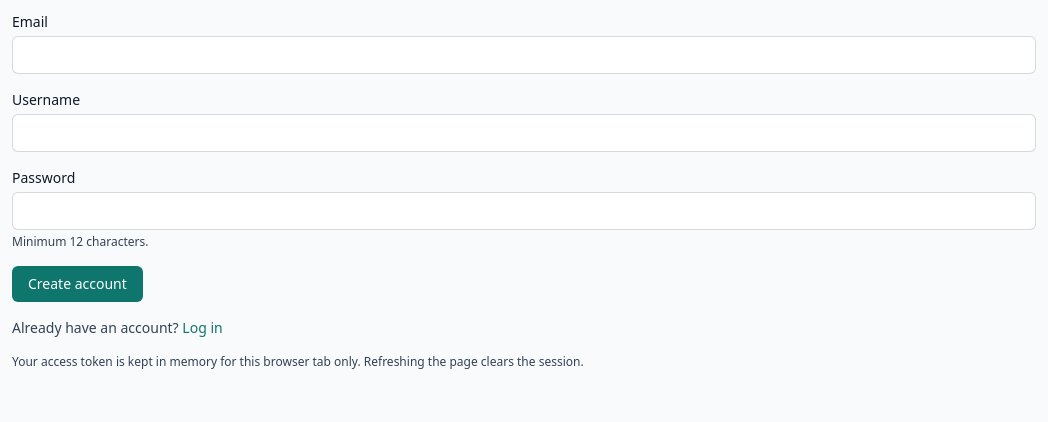
Test case: RegisterForm › shows API error message
The width and height of the screenshot is (1048, 422).
Type "test@example.com" into the field labelled "Email" at (524, 55), box [12,36,1036,74]
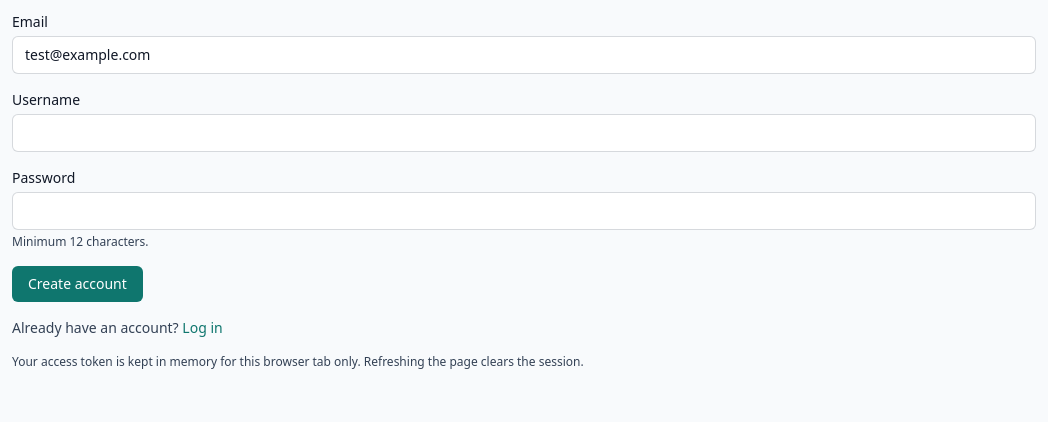
Type "testuser" into the field labelled "Username" at (524, 133), box [12,114,1036,152]
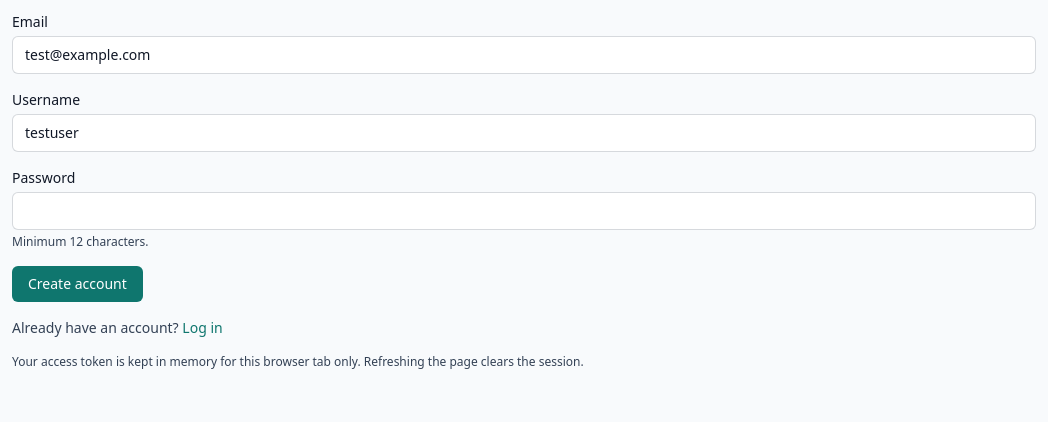
Type "password123456" into the password field labelled "Password" at (524, 211), box [12,192,1036,230]
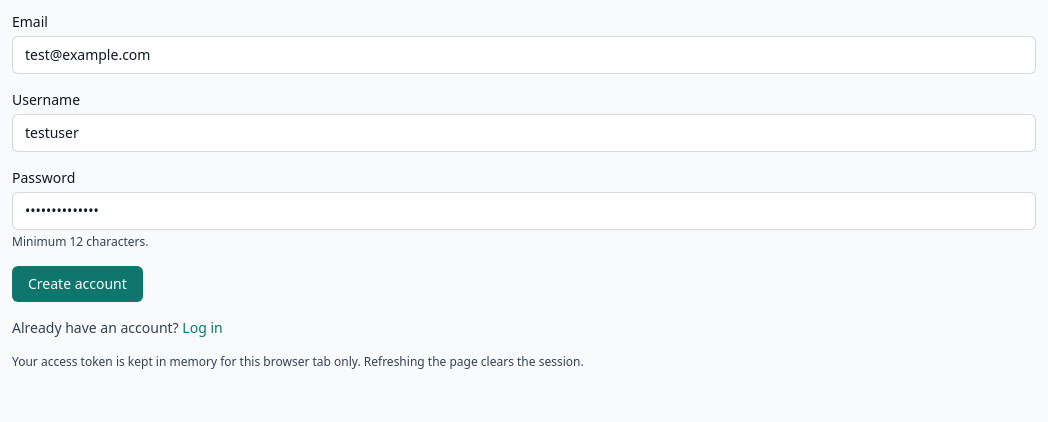
Click the button "Create account" at (77, 284), box [12,266,143,302]
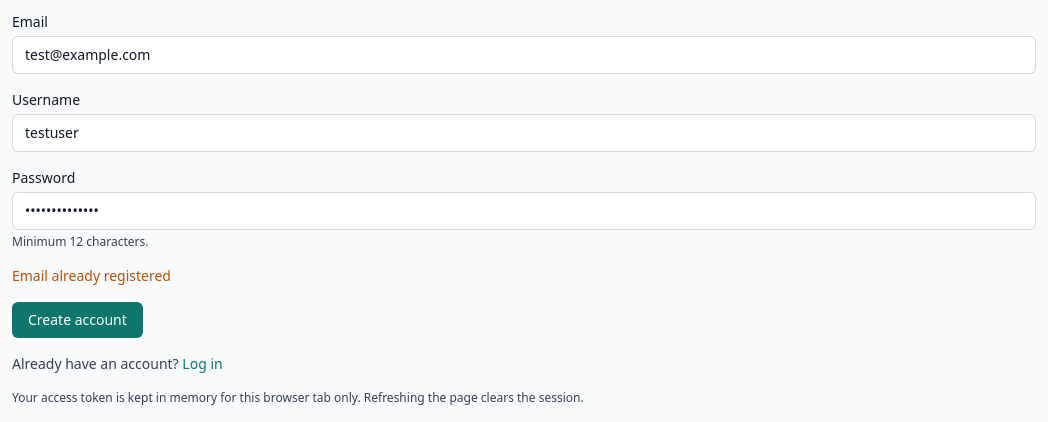
Expected: the text "Email already registered" is shown, [12,266,171,285]
